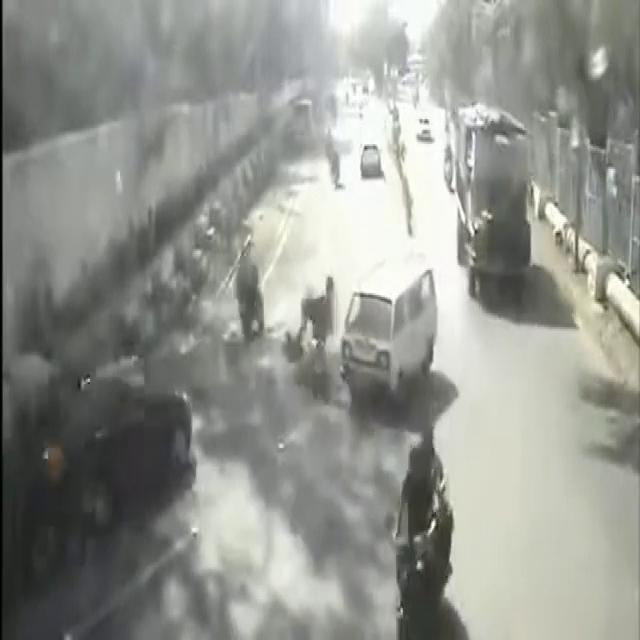accident: (283, 268, 347, 399)
